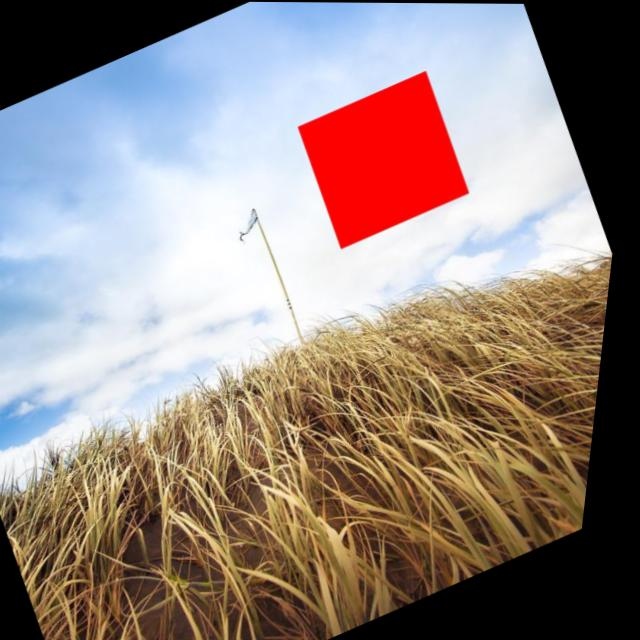RedSquare: (285, 63, 492, 253)
